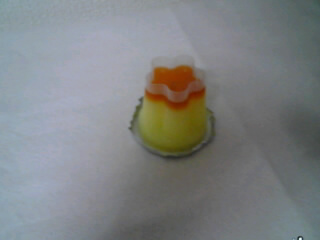001_classes: (121, 51, 220, 160)
